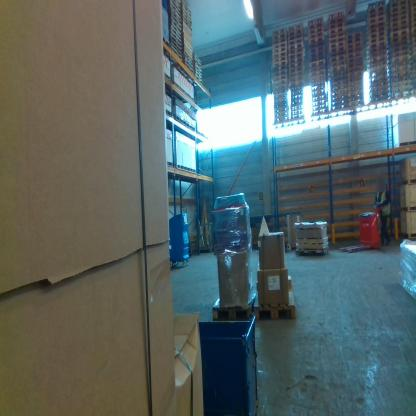pallet: (212, 287, 258, 323), (253, 286, 297, 321), (310, 11, 345, 54), (296, 245, 329, 258), (369, 74, 387, 86), (369, 80, 388, 91), (369, 69, 387, 80), (369, 85, 388, 95), (369, 14, 386, 25), (391, 28, 409, 38), (391, 13, 409, 23), (370, 64, 386, 75), (369, 90, 388, 99), (369, 60, 386, 70), (392, 34, 409, 44), (392, 69, 410, 78), (392, 64, 410, 73), (392, 59, 410, 68), (392, 54, 410, 63), (392, 49, 410, 58), (391, 19, 409, 28), (330, 54, 346, 64), (347, 50, 363, 60), (329, 35, 345, 45), (370, 29, 386, 39), (346, 41, 363, 50), (346, 36, 363, 45), (346, 32, 363, 41), (369, 54, 386, 63), (392, 44, 409, 53), (392, 40, 409, 49), (369, 20, 386, 29), (369, 10, 386, 19), (273, 84, 288, 94), (273, 73, 288, 83), (311, 74, 326, 84), (311, 68, 326, 78), (308, 16, 323, 26), (330, 59, 346, 68), (330, 50, 346, 59), (329, 41, 345, 50), (329, 31, 345, 40), (329, 26, 345, 35), (308, 21, 324, 30), (392, 80, 410, 88), (392, 74, 410, 82), (391, 24, 409, 32), (370, 40, 386, 49), (370, 35, 386, 44), (369, 5, 385, 14), (369, 0, 385, 9), (273, 68, 287, 78), (273, 45, 287, 55), (289, 23, 303, 33), (328, 17, 345, 25), (370, 95, 387, 103), (369, 50, 386, 58), (370, 45, 387, 53), (369, 26, 386, 34), (391, 9, 408, 17), (391, 4, 408, 12), (273, 79, 288, 88), (289, 51, 304, 60), (289, 41, 304, 50), (289, 37, 304, 46), (311, 64, 326, 73), (311, 59, 326, 68), (330, 45, 345, 54), (310, 40, 325, 49), (309, 36, 324, 45), (309, 31, 324, 40), (309, 26, 324, 35), (347, 65, 363, 73), (347, 56, 363, 64), (329, 21, 345, 29), (348, 99, 364, 107), (348, 94, 364, 102), (348, 89, 364, 97), (273, 64, 287, 73), (273, 60, 287, 69), (273, 55, 287, 64), (273, 50, 287, 59), (289, 56, 303, 65), (289, 46, 303, 55), (289, 28, 303, 37), (273, 41, 287, 50), (273, 36, 287, 45), (273, 32, 287, 41), (289, 75, 304, 83), (311, 54, 326, 62), (311, 50, 326, 58), (331, 64, 346, 72), (347, 46, 362, 54), (348, 84, 363, 92), (347, 71, 362, 79), (391, 0, 408, 7), (274, 110, 288, 118), (274, 101, 288, 109), (274, 97, 288, 105), (289, 70, 303, 78), (289, 66, 303, 74), (289, 61, 303, 69), (289, 33, 303, 41), (273, 28, 287, 36), (347, 61, 363, 68), (274, 115, 289, 122), (348, 80, 363, 87), (348, 75, 363, 82), (162, 36, 170, 49), (274, 92, 287, 100), (274, 106, 288, 113), (411, 27, 416, 34), (411, 16, 416, 23), (411, 22, 416, 28), (411, 11, 416, 17), (411, 6, 416, 12), (411, 0, 416, 6)
pallet_truck: (339, 201, 383, 254)
